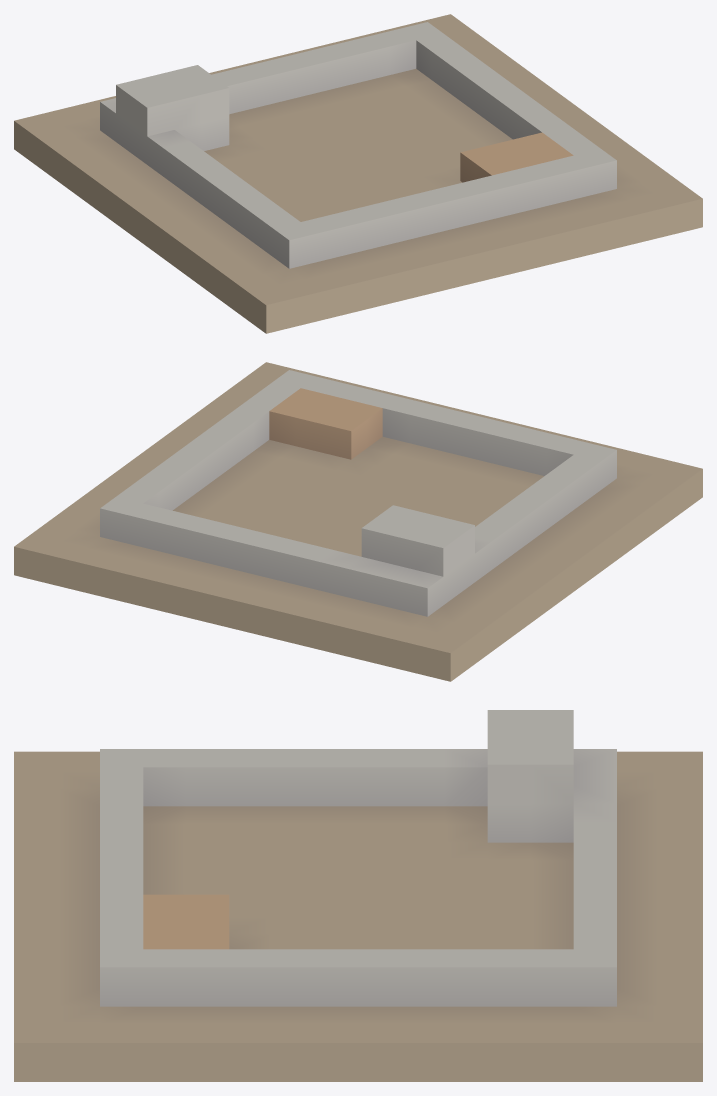
File: life_stage.v0.glb
3 views of the same model, one above another, from view 1: azimuth 30°, elevation 25°; view 2: azimuth 150°, elevation 25°; view 3: azimuth 270°, elevation 25° (orthographic). The views are drawn at different scales.
Visible parts, largest first — view 1: life_stage; view 2: life_stage; view 3: life_stage.
Part boxes in pixels (bbox=[...]): life_stage: bbox=[14, 14, 702, 333]; life_stage: bbox=[14, 362, 702, 681]; life_stage: bbox=[14, 710, 702, 1081].
Bounding box in the file's own units: 2 × 0.375 × 2.
